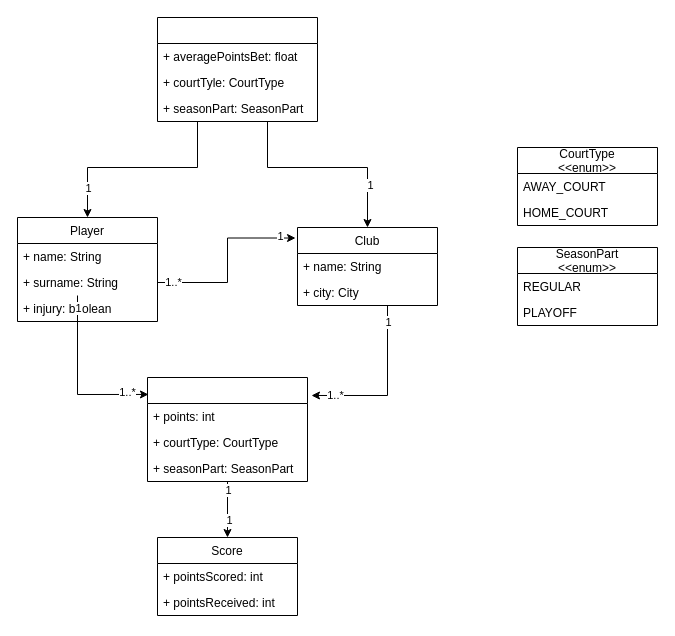
Image size: 675x636. Some labels were removed from this diagram. The box of each missing label's shape, as (x1, y1, x2, y2) in pixels:
Game: (146, 376, 308, 482)
InputState: (156, 16, 318, 122)
